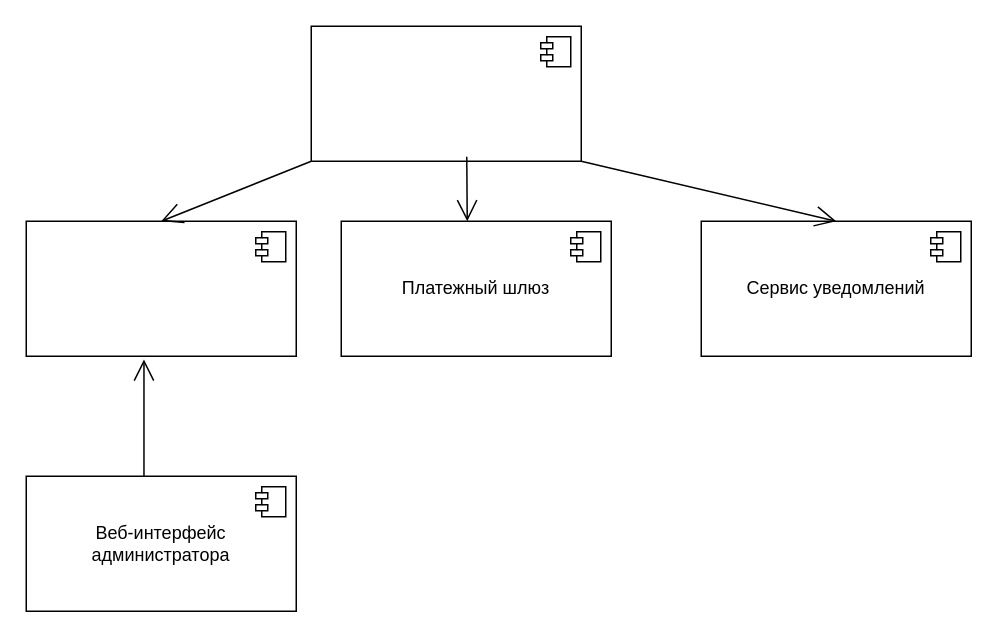
The diagram is 998 pixels wide and 638 high, and some of its shapes have lost their labels. The centre of each missing label's shape, as x and y in pixels:
"База данных" goes at (x=160, y=288).
"Веб-интерфейс" goes at (x=445, y=93).
